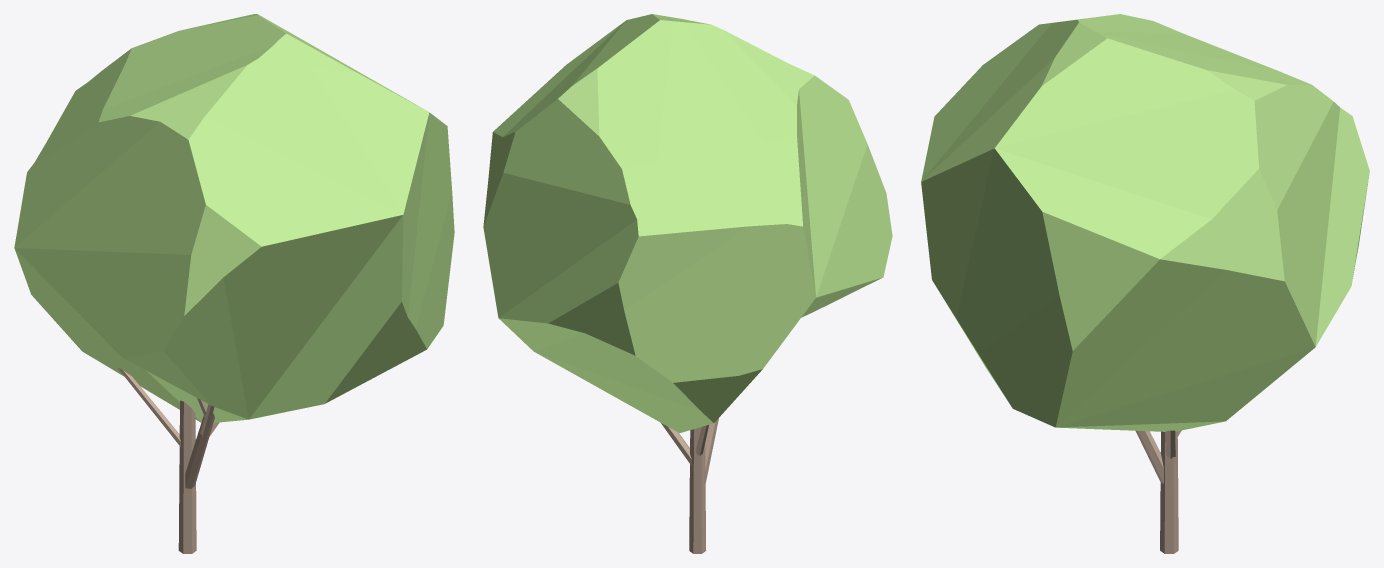
The model's file is arbre_bin.glb.
The picture shows the model from 3 angles, left to right: view 1: azimuth 30°, elevation 25°; view 2: azimuth 150°, elevation 25°; view 3: azimuth 270°, elevation 25°; orthographic projection. The views are drawn at different scales.
Size of the model in its own units: 0.7419 by 1 by 0.7428.
